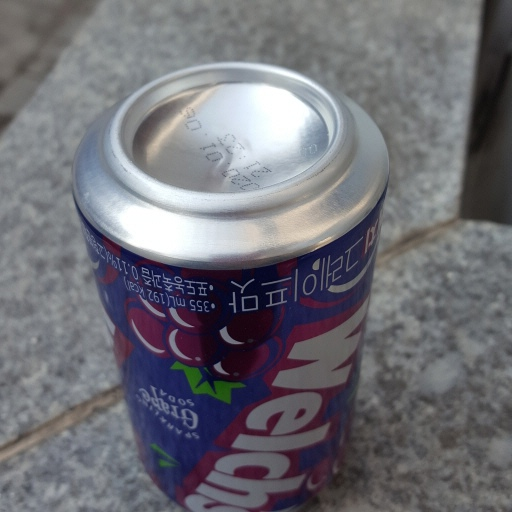Metal_0: (70, 59, 392, 512)
